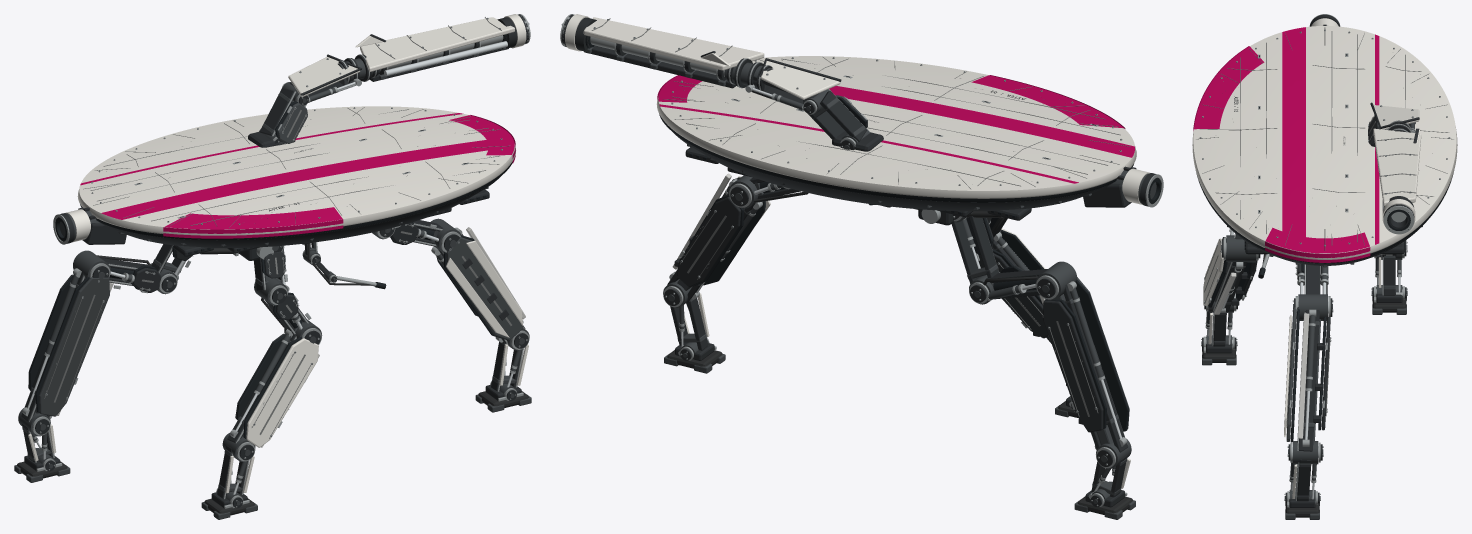
File: 05_Aster_Walker.glb
3 views of the same model, side by side, from view 1: azimuth 30°, elevation 25°; view 2: azimuth 150°, elevation 25°; view 3: azimuth 270°, elevation 25° (orthographic). The views are drawn at different scales.
Visible parts, largest first — view 1: 02_Deck armor and livery_Geometry, 04_Rear far leg_armored shin_Geometry, 09_Cannon barrel_Geometry, 01_Saucer chassis_Geometry, 05_Rear near leg_armored shin_Geometry, 06_Forward leg_armored shin_Geometry, 08_Dorsal cannon arm_Geometry, 04_Rear far leg_upper link_Geometry, 06_Forward leg_ankle and foot_Geometry, 05_Rear near leg_ankle and foot_Geometry, 10_Rear exhaust_Geometry, 04_Rear far leg_ankle and foot_Geometry (+6 smaller); view 2: 02_Deck armor and livery_Geometry, 04_Rear far leg_armored shin_Geometry, 01_Saucer chassis_Geometry, 09_Cannon barrel_Geometry, 06_Forward leg_armored shin_Geometry, 08_Dorsal cannon arm_Geometry, 04_Rear far leg_hip_Geometry, 06_Forward leg_ankle and foot_Geometry, 05_Rear near leg_armored shin_Geometry, 04_Rear far leg_upper link_Geometry, 10_Rear exhaust_Geometry, 04_Rear far leg_ankle and foot_Geometry (+2 smaller); view 3: 02_Deck armor and livery_Geometry, 06_Forward leg_armored shin_Geometry, 09_Cannon barrel_Geometry, 01_Saucer chassis_Geometry, 05_Rear near leg_armored shin_Geometry, 06_Forward leg_ankle and foot_Geometry, 04_Rear far leg_ankle and foot_Geometry, 06_Forward leg_upper link_Geometry, 05_Rear near leg_ankle and foot_Geometry, 08_Dorsal cannon arm_Geometry, 05_Rear near leg_upper link_Geometry, 03_Belly machinery_Geometry.
Part boxes in pixels (bbox=[...]): 02_Deck armor and livery_Geometry: bbox=[79, 106, 515, 238]; 04_Rear far leg_armored shin_Geometry: bbox=[18, 268, 113, 436]; 09_Cannon barrel_Geometry: bbox=[338, 14, 530, 83]; 01_Saucer chassis_Geometry: bbox=[77, 144, 515, 248]; 05_Rear near leg_armored shin_Geometry: bbox=[222, 329, 319, 461]; 06_Forward leg_armored shin_Geometry: bbox=[431, 227, 529, 350]; 08_Dorsal cannon arm_Geometry: bbox=[248, 54, 361, 147]; 04_Rear far leg_upper link_Geometry: bbox=[73, 250, 161, 293]; 06_Forward leg_ankle and foot_Geometry: bbox=[475, 341, 531, 412]; 05_Rear near leg_ankle and foot_Geometry: bbox=[201, 445, 257, 519]; 10_Rear exhaust_Geometry: bbox=[53, 207, 126, 244]; 04_Rear far leg_ankle and foot_Geometry: bbox=[14, 424, 70, 482]; 02_Deck armor and livery_Geometry: bbox=[657, 56, 1134, 190]; 04_Rear far leg_armored shin_Geometry: bbox=[1039, 277, 1131, 468]; 01_Saucer chassis_Geometry: bbox=[656, 96, 1136, 211]; 09_Cannon barrel_Geometry: bbox=[560, 14, 772, 90]; 06_Forward leg_armored shin_Geometry: bbox=[663, 173, 770, 307]; 08_Dorsal cannon arm_Geometry: bbox=[745, 58, 883, 151]; 04_Rear far leg_hip_Geometry: bbox=[951, 212, 1000, 304]; 06_Forward leg_ankle and foot_Geometry: bbox=[664, 293, 725, 373]; 05_Rear near leg_armored shin_Geometry: bbox=[978, 228, 1051, 343]; 04_Rear far leg_upper link_Geometry: bbox=[983, 261, 1077, 300]; 10_Rear exhaust_Geometry: bbox=[1083, 166, 1163, 207]; 04_Rear far leg_ankle and foot_Geometry: bbox=[1074, 455, 1135, 519]; 02_Deck armor and livery_Geometry: bbox=[1193, 26, 1456, 262]; 06_Forward leg_armored shin_Geometry: bbox=[1284, 307, 1331, 464]; 09_Cannon barrel_Geometry: bbox=[1373, 120, 1421, 234]; 01_Saucer chassis_Geometry: bbox=[1192, 127, 1457, 265]; 05_Rear near leg_armored shin_Geometry: bbox=[1203, 237, 1257, 314]; 06_Forward leg_ankle and foot_Geometry: bbox=[1284, 446, 1320, 519]; 04_Rear far leg_ankle and foot_Geometry: bbox=[1371, 255, 1407, 314]; 06_Forward leg_upper link_Geometry: bbox=[1292, 263, 1333, 320]; 05_Rear near leg_ankle and foot_Geometry: bbox=[1201, 307, 1237, 365]; 08_Dorsal cannon arm_Geometry: bbox=[1368, 102, 1419, 146]; 05_Rear near leg_upper link_Geometry: bbox=[1220, 228, 1260, 262]; 03_Belly machinery_Geometry: bbox=[1227, 226, 1422, 267].
Bounding box in the file's own units: 11.83 × 7.68 × 5.34.
